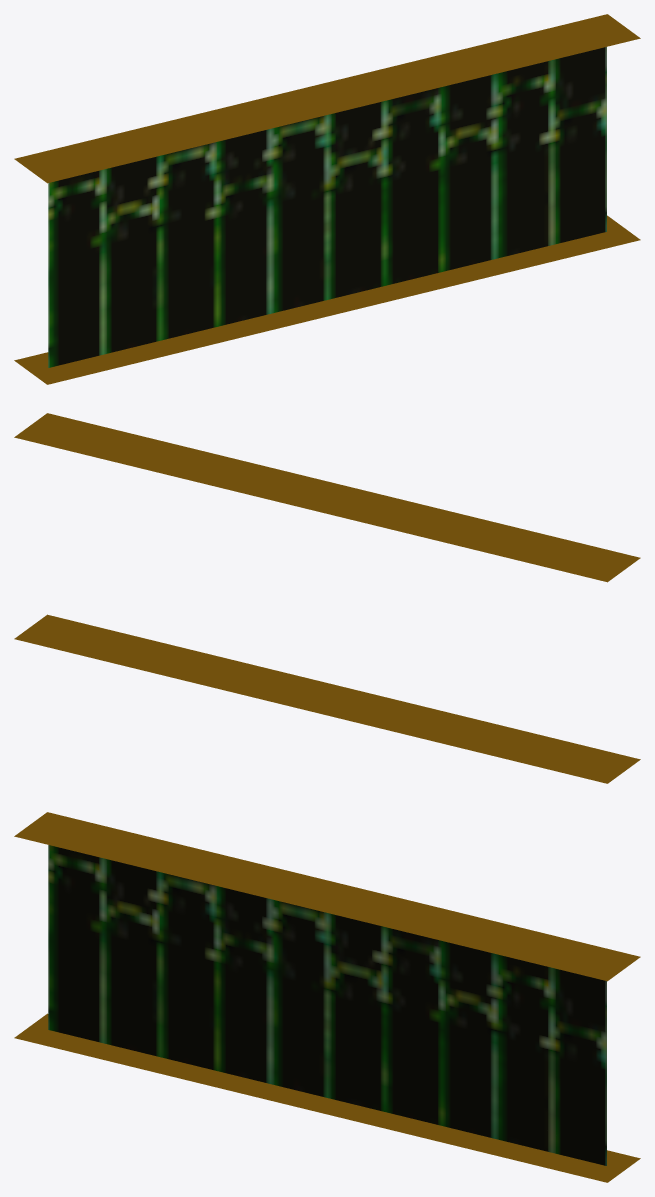
Rendered from Geländer1 [GrünesMetall]_1681.glb.
The picture shows the model from 3 angles, top to bottom: view 1: azimuth 30°, elevation 25°; view 2: azimuth 150°, elevation 25°; view 3: azimuth 330°, elevation 25°; orthographic projection.
Visible parts, largest first — view 1: pPlaneShape223, pPlaneShape224, pPlaneShape225; view 2: pPlaneShape224, pPlaneShape225; view 3: pPlaneShape223, pPlaneShape224, pPlaneShape225.
Boxes of the visible parts, bbox=[...] form: pPlaneShape223: bbox=[48, 47, 606, 367]; pPlaneShape224: bbox=[14, 14, 640, 183]; pPlaneShape225: bbox=[14, 215, 640, 384]; pPlaneShape224: bbox=[14, 413, 640, 582]; pPlaneShape225: bbox=[14, 614, 640, 783]; pPlaneShape223: bbox=[48, 845, 606, 1165]; pPlaneShape224: bbox=[14, 812, 640, 981]; pPlaneShape225: bbox=[14, 1013, 640, 1182].
Size of the model in its own units: 0.25 by 0.0811 by 0.0243.
Materials: 3 (1 with a texture image).
